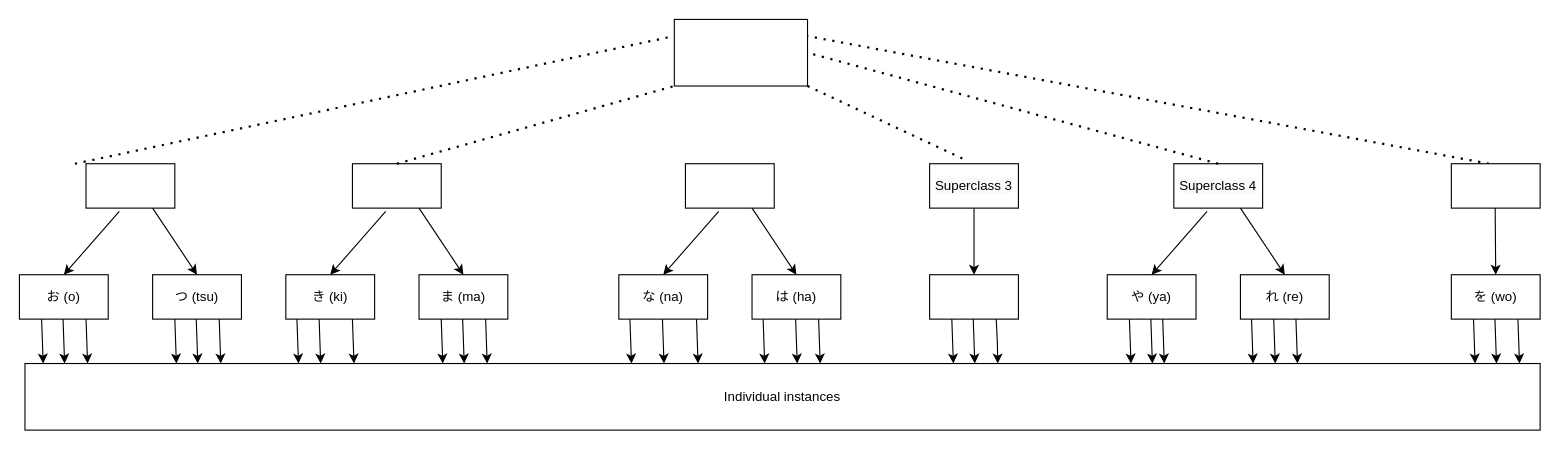
The diagram is 1560 pixels wide and 450 high, and some of its shapes have lost their labels. The shapes that lost their labels are listed below. From the top down, each one's centre as x and y in pixels, then its label:
(740,52): Root (not used)
(130,185): Superclass 0
(396,185): Superclass 1
(729,185): Superclass 2
(1495,185): Superclass 5
(973,296): す(su)
